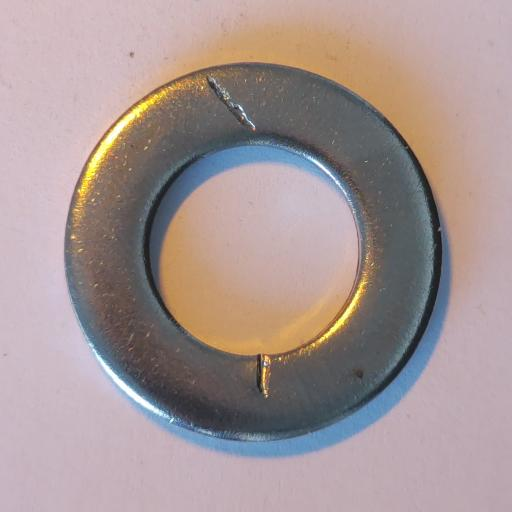scratch: (206, 75, 256, 131), (258, 353, 271, 398)
